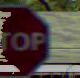Stop: (1, 4, 48, 77)
